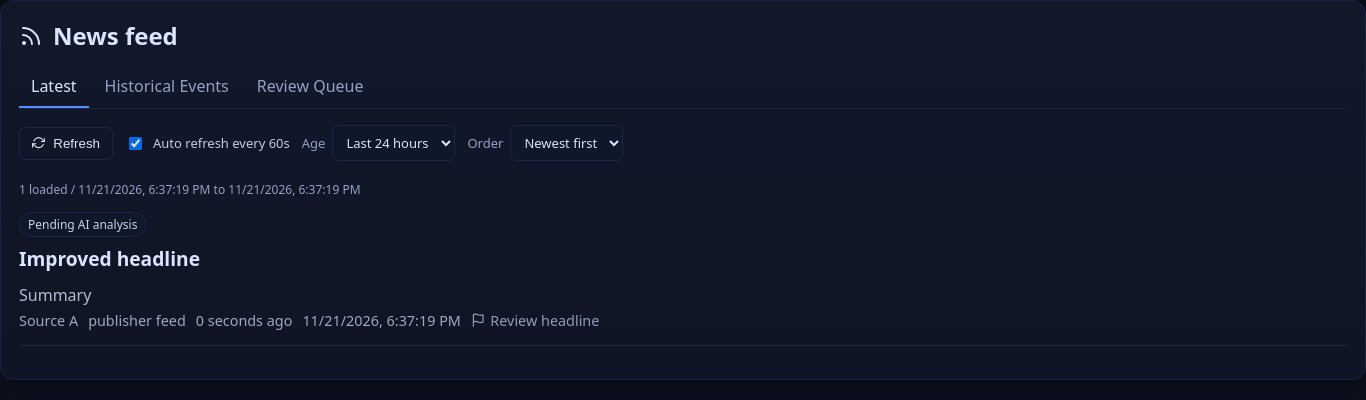
NewsFeed › flags a questionable headline for persistent review
The width and height of the screenshot is (1366, 400).
Click the button "Review headline" at coordinates (535, 320), box [471,311,599,330]
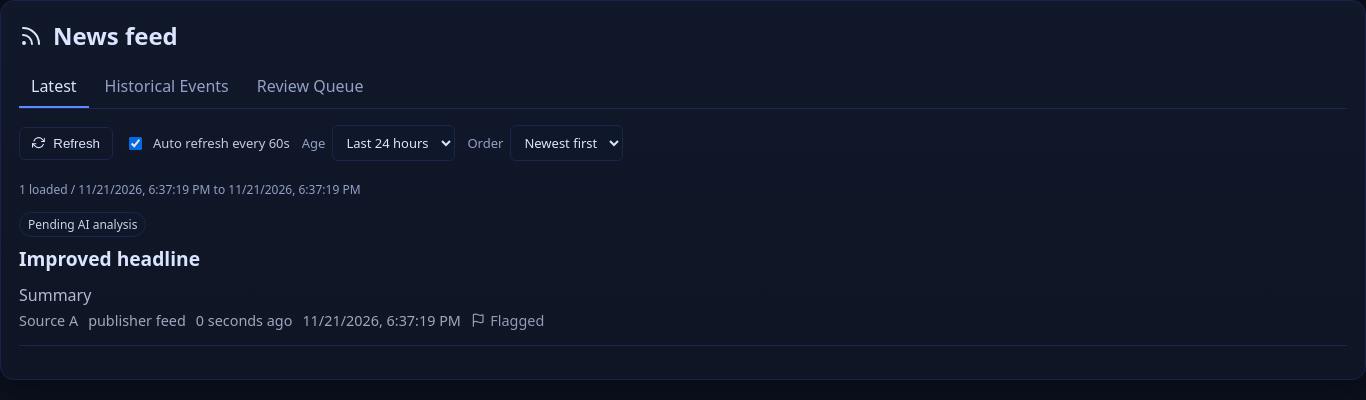
expect the button "Flagged" is shown: met, box [471,311,544,330]
